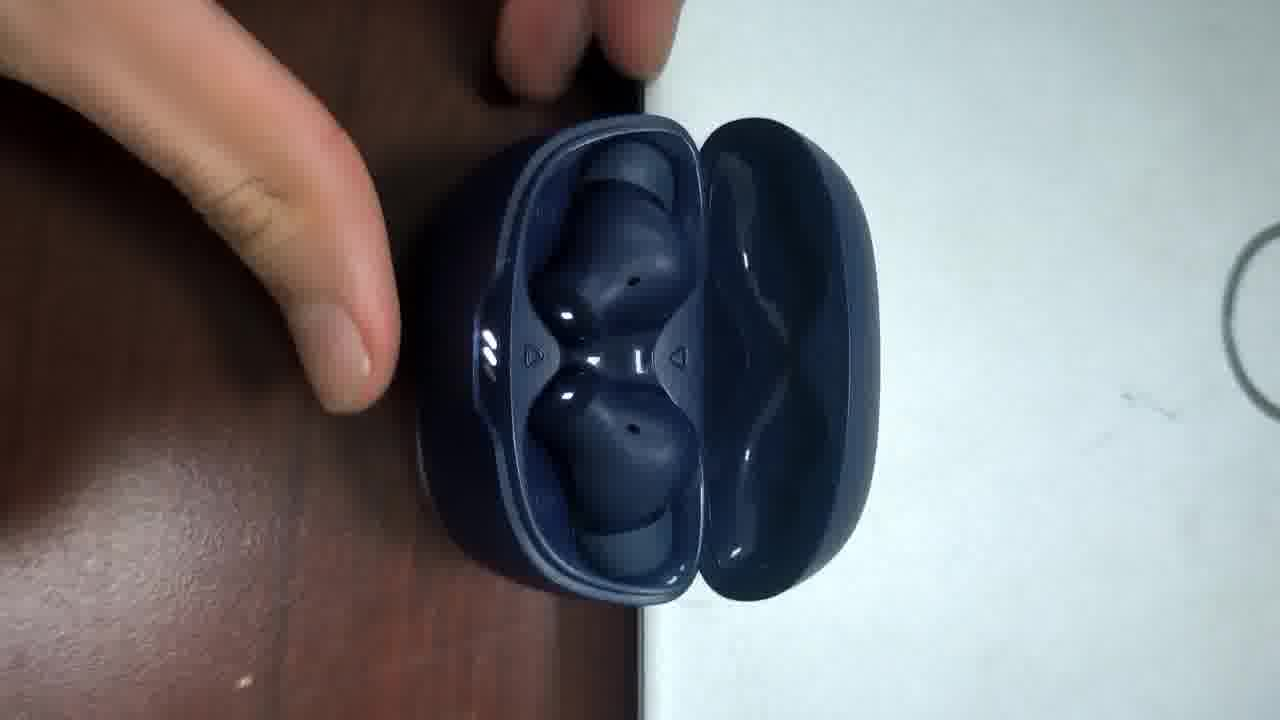Earbud: (529, 370, 697, 577), (530, 139, 695, 343)
